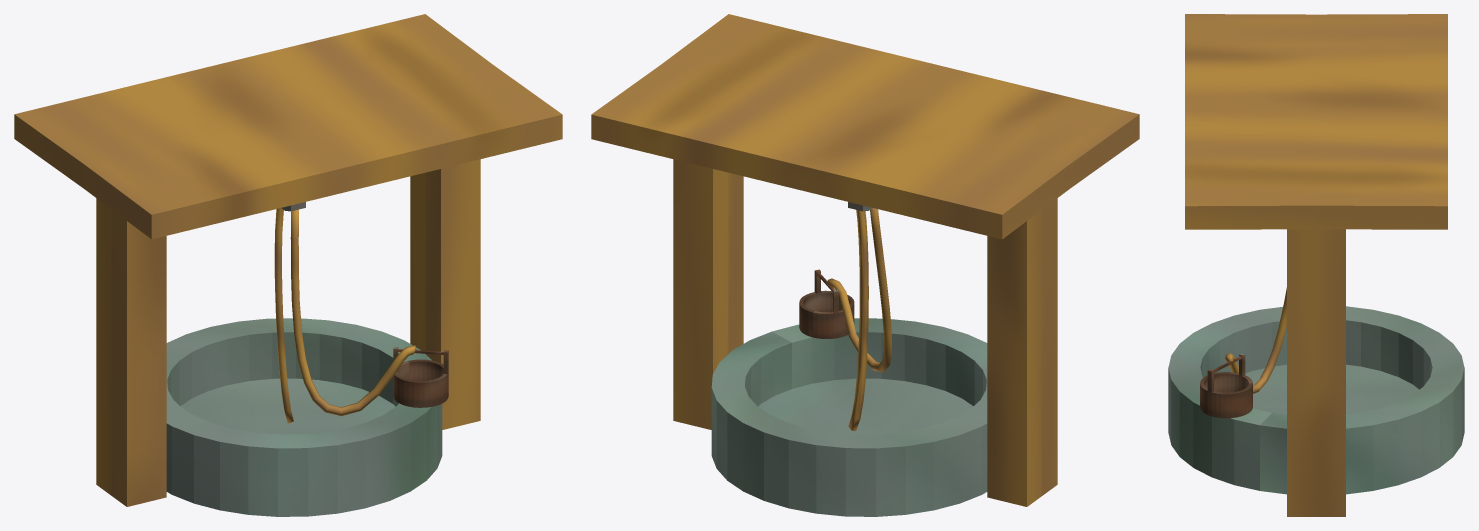
Rendered from ido_exp.fbx.
3 renders of one model, left to right at view 1: azimuth 30°, elevation 25°; view 2: azimuth 150°, elevation 25°; view 3: azimuth 270°, elevation 25°, orthographic. The views are drawn at different scales.
Parts seen in each view (by area): view 1: ido_yane; view 2: ido_yane; view 3: ido_yane.
Boxes of the visible parts, x1,y1,x2,y2 form: ido_yane: (14, 14, 562, 516); ido_yane: (591, 14, 1139, 516); ido_yane: (1168, 14, 1464, 516).
Size of the model in its own units: 722 by 568 by 470.
1 material, 1 textured.
